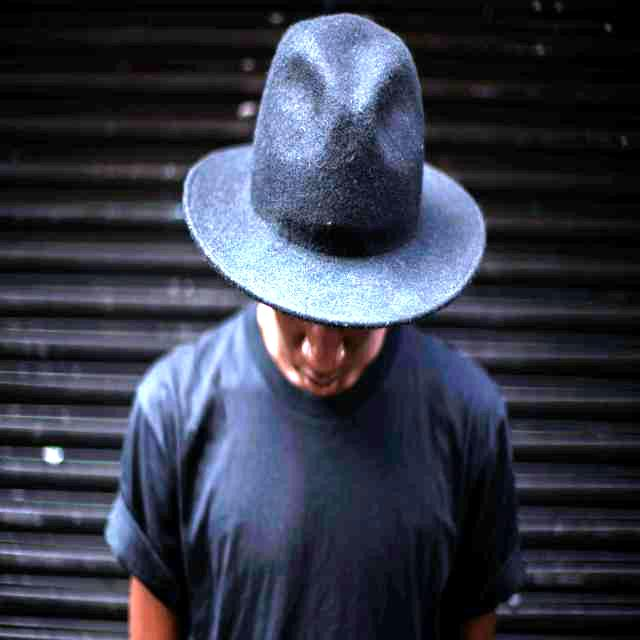no_hard_hat: (184, 15, 485, 325)
person: (106, 28, 523, 640)
